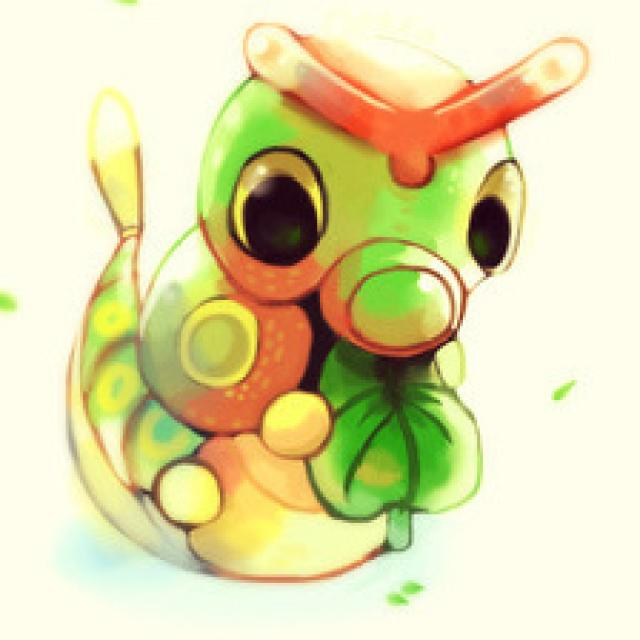Caterpie: (73, 23, 542, 576)
